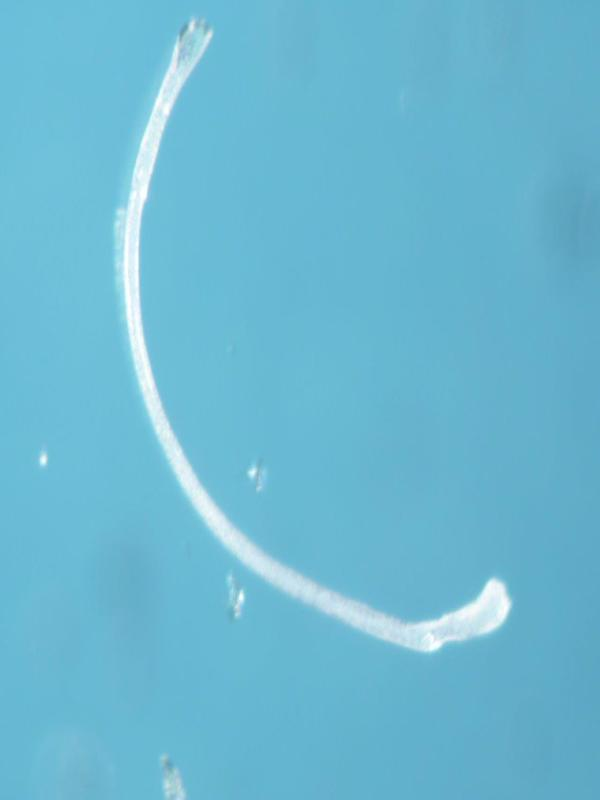microplastic: (116, 15, 512, 655)
